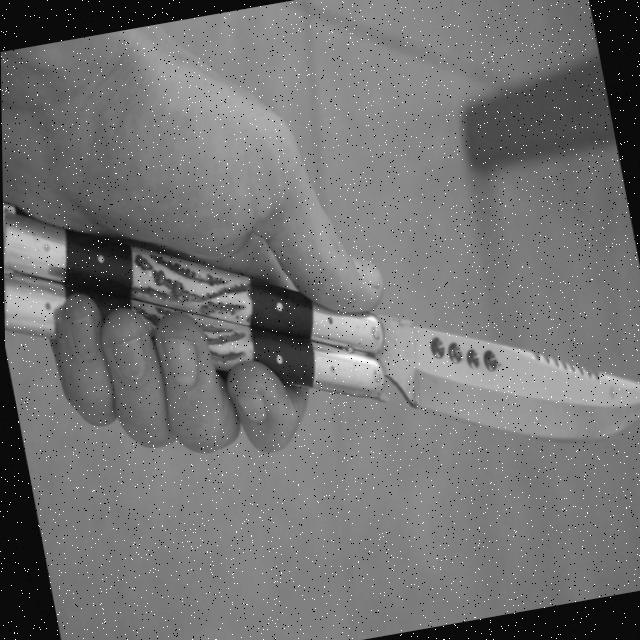knife: (1, 99, 640, 542)
